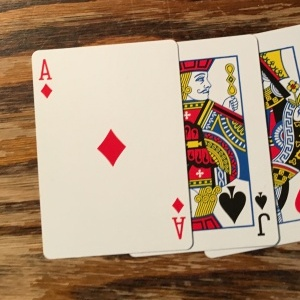card: (32, 40, 192, 260), (181, 36, 281, 248)
